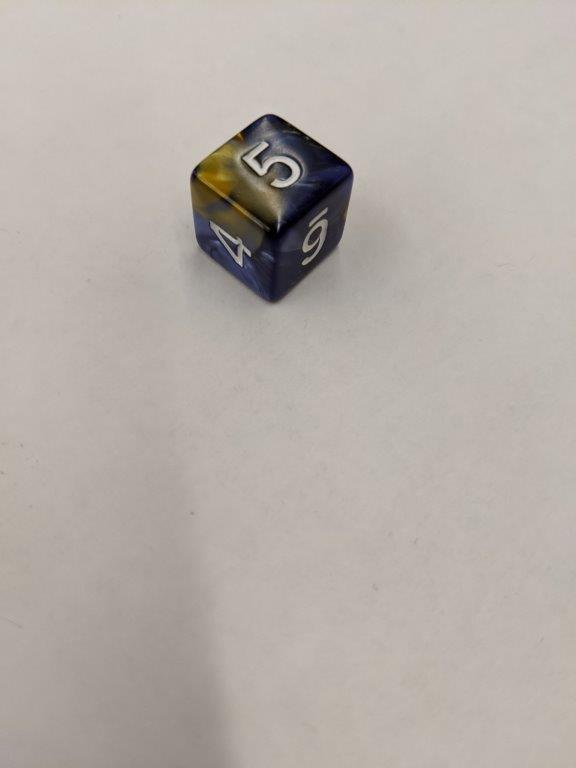d6-5: (188, 112, 354, 303)
